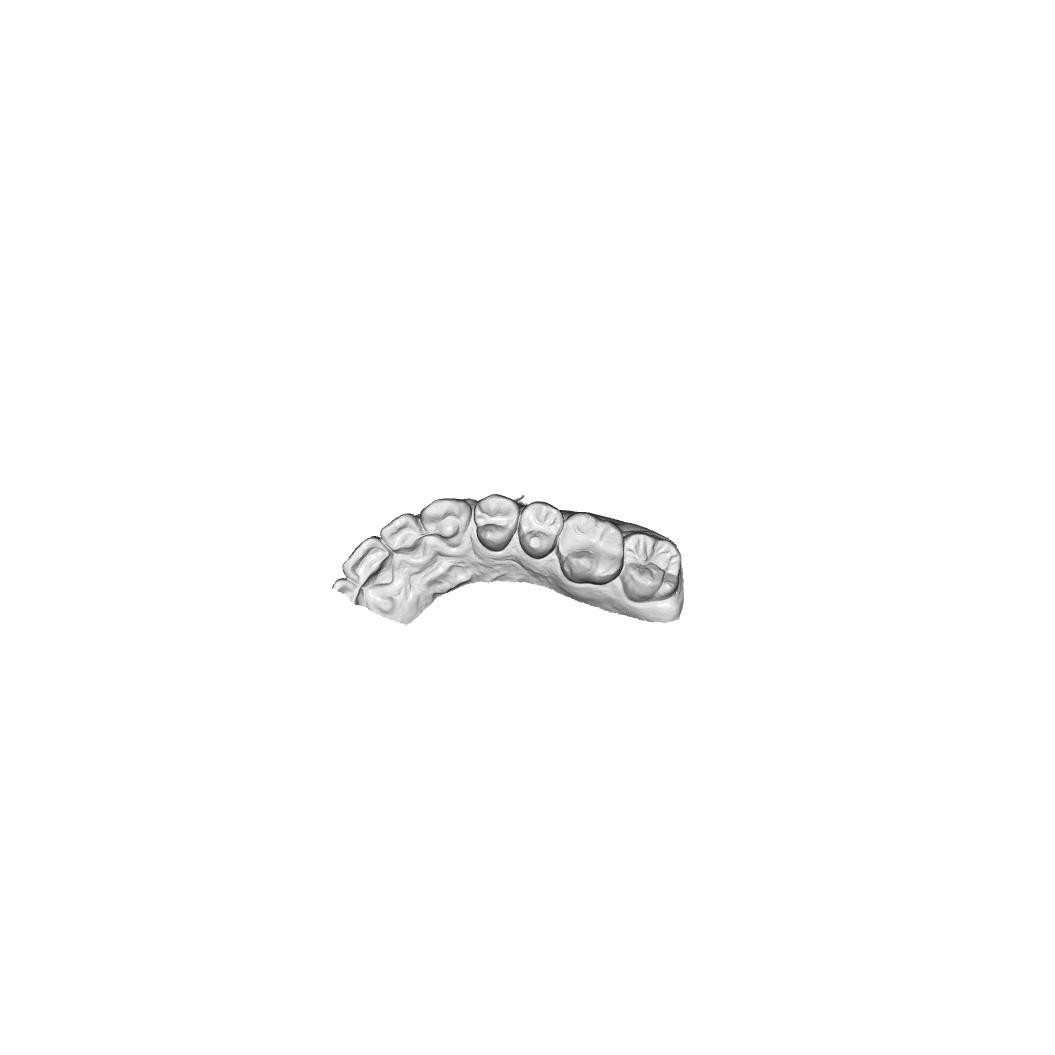canine: (419, 496, 473, 547)
incisor: (340, 534, 396, 586), (379, 512, 425, 554)
molar: (554, 511, 625, 587), (620, 530, 682, 604)
premolar: (517, 500, 565, 560), (473, 493, 521, 553)
